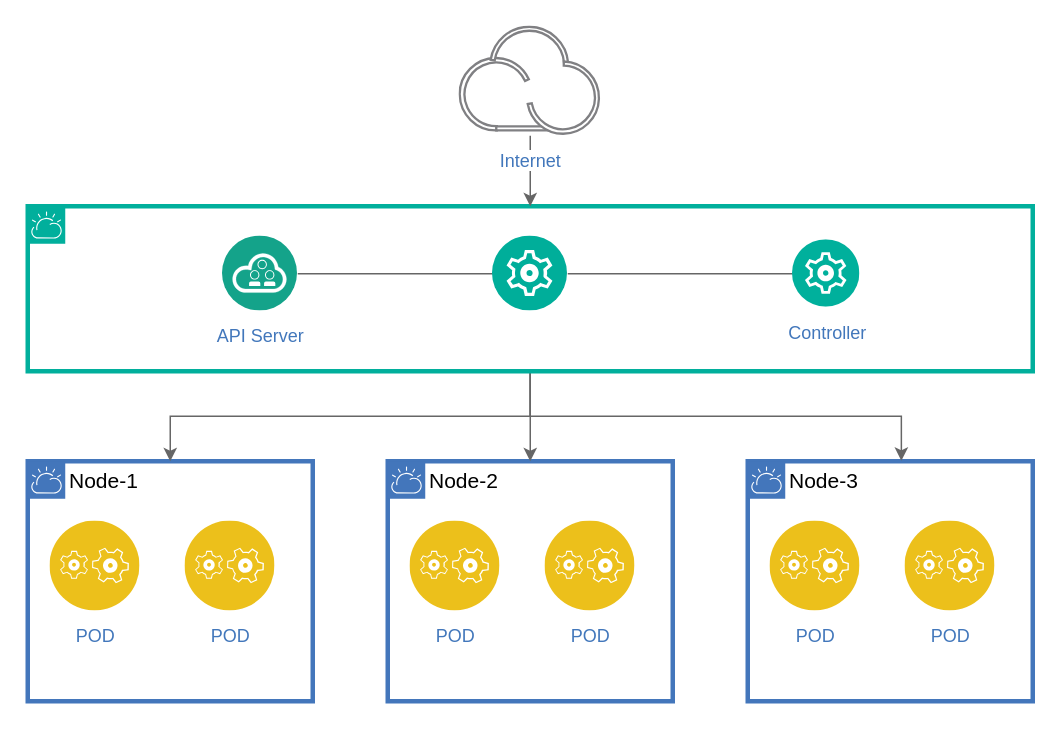
Some shapes in this 1061 by 729 pixel diagram are drawn without their labels. Each missing label, with the box of its shape:
Master-1: (25, 203, 1034, 373)
Scheduler: (492, 236, 567, 310)
